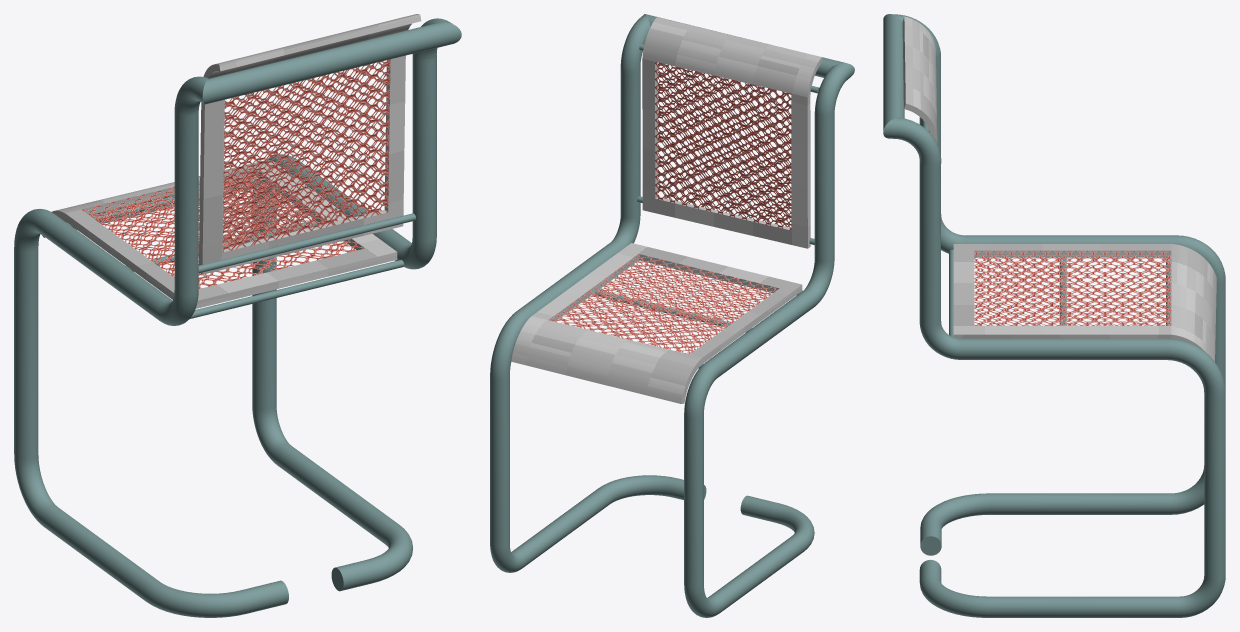
3 renders of one model, left to right at view 1: azimuth 30°, elevation 25°; view 2: azimuth 150°, elevation 25°; view 3: azimuth 270°, elevation 25°, orthographic. The views are drawn at different scales.
Parts seen in each view (by area): view 1: group_0_ID3, group_0_ID113, group_0_ID85, group_0_ID21, group_0_ID93, group_0_ID65, group_0_ID52, group_0_ID133, group_0_ID34; view 2: group_0_ID3, group_0_ID21, group_0_ID85, group_0_ID113, group_0_ID93, group_0_ID65, group_0_ID52, group_0_ID40; view 3: group_0_ID3, group_0_ID21, group_0_ID65, group_0_ID52, group_0_ID85.
Boxes of the visible parts, bbox=[...] form: group_0_ID3: bbox=[14, 18, 461, 617]; group_0_ID113: bbox=[222, 59, 390, 252]; group_0_ID85: bbox=[199, 14, 421, 274]; group_0_ID21: bbox=[41, 160, 397, 308]; group_0_ID93: bbox=[223, 61, 386, 247]; group_0_ID65: bbox=[90, 176, 356, 288]; group_0_ID52: bbox=[82, 168, 363, 288]; group_0_ID133: bbox=[198, 213, 415, 273]; group_0_ID34: bbox=[190, 260, 403, 318]; group_0_ID3: bbox=[490, 14, 854, 617]; group_0_ID21: bbox=[511, 243, 802, 403]; group_0_ID85: bbox=[642, 17, 822, 248]; group_0_ID113: bbox=[658, 63, 791, 226]; group_0_ID93: bbox=[655, 62, 791, 230]; group_0_ID65: bbox=[555, 260, 772, 353]; group_0_ID52: bbox=[551, 254, 777, 354]; group_0_ID40: bbox=[595, 291, 751, 332]; group_0_ID3: bbox=[883, 14, 1225, 617]; group_0_ID21: bbox=[953, 244, 1216, 361]; group_0_ID65: bbox=[974, 257, 1171, 325]; group_0_ID52: bbox=[974, 250, 1171, 325]; group_0_ID85: bbox=[902, 16, 937, 143].
Bounding box in the file's own units: 0.3759 × 0.7896 × 0.485.
